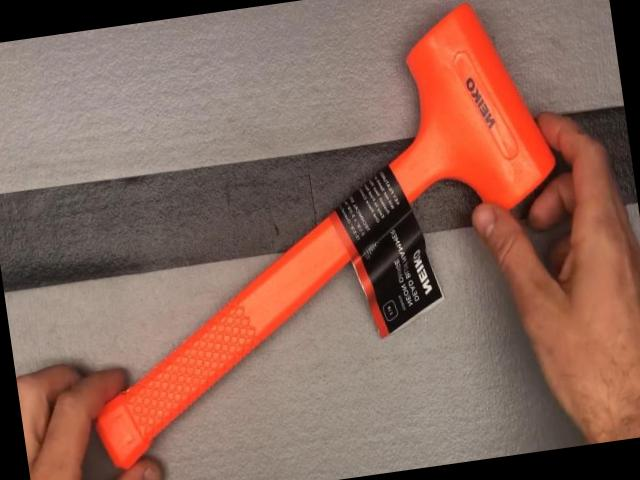hammer: (43, 0, 591, 472)
